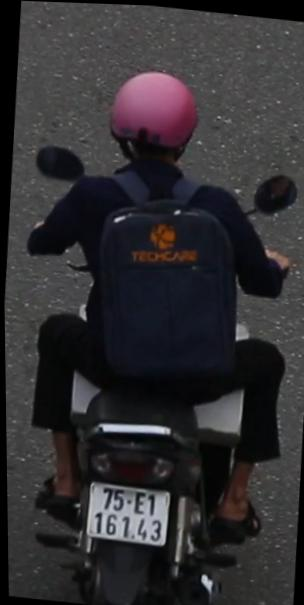LP: (78, 474, 172, 553)
helmet: (98, 63, 206, 181)
